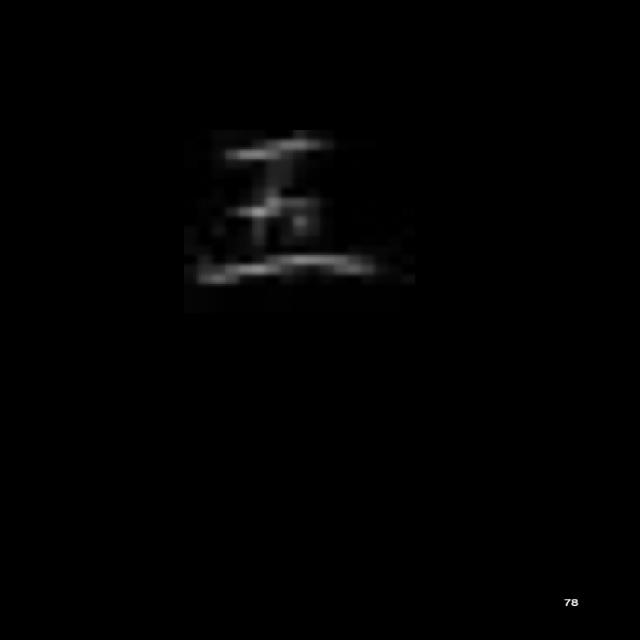5 -five-: (185, 127, 388, 291)
